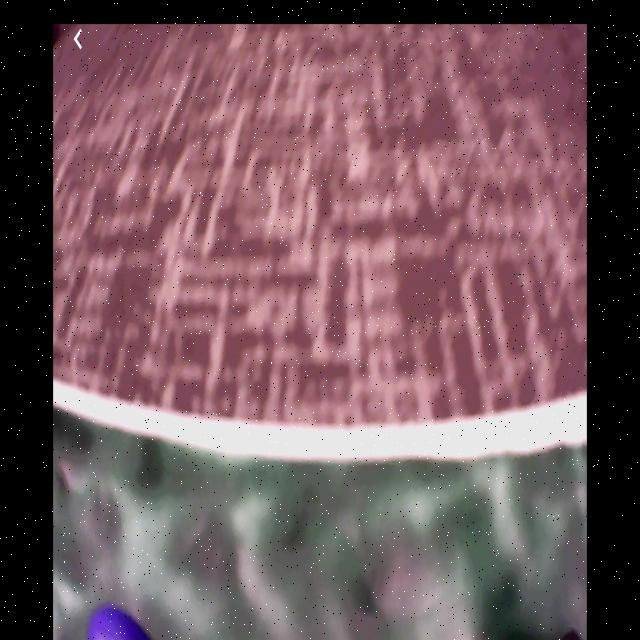ball: (84, 605, 154, 640)
